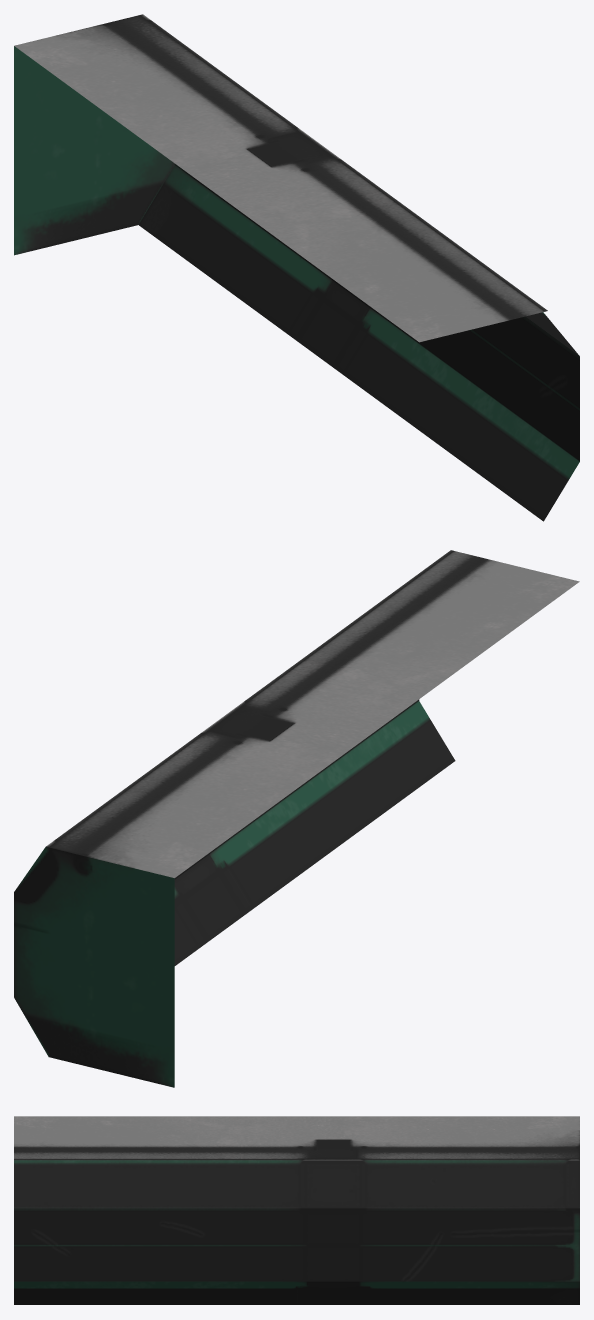
File: 2 kabe2.fbx
3 views of the same model, one above another, from view 1: azimuth 30°, elevation 25°; view 2: azimuth 150°, elevation 25°; view 3: azimuth 270°, elevation 25° (orthographic). The views are drawn at different scales.
Parts seen in each view (by area): view 1: polySurface360; view 2: polySurface360; view 3: polySurface360.
Part boxes in pixels (bbox=[...]): polySurface360: bbox=[14, 14, 579, 521]; polySurface360: bbox=[14, 550, 579, 1087]; polySurface360: bbox=[14, 1116, 579, 1304].
Bounding box in the file's own units: 14.02 × 17.47 × 61.22.
Materials: 1 (1 with a texture image).
